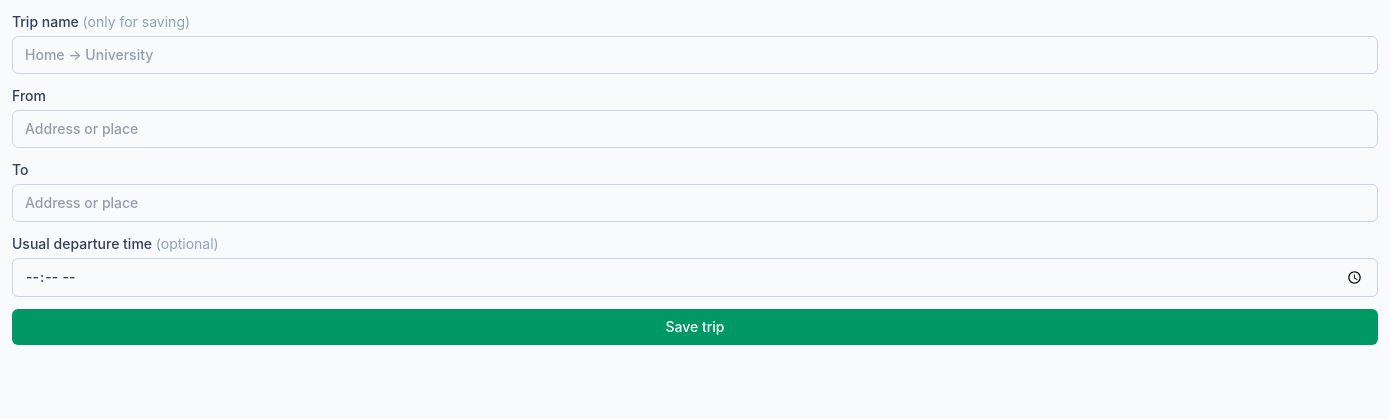
Scenario: AddTripForm › says lookup is temporarily unavailable on 503, not 'not found'
Type "Home -> Uni" into the field labelled "Trip name (only for saving)" at (695, 55), box [12,36,1378,74]
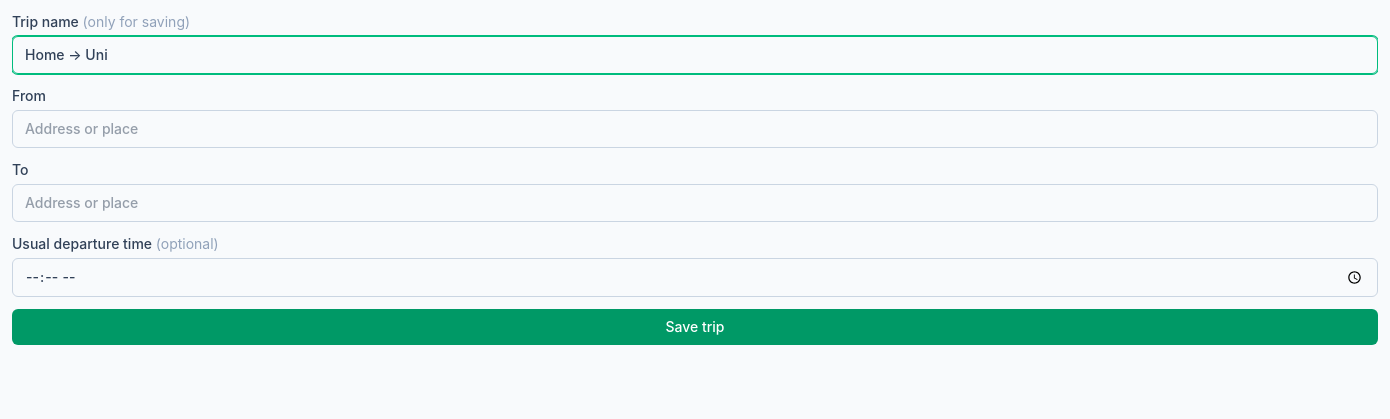
Type "Gdansk Glowny" into the field labelled "From" at (695, 129), box [12,110,1378,148]
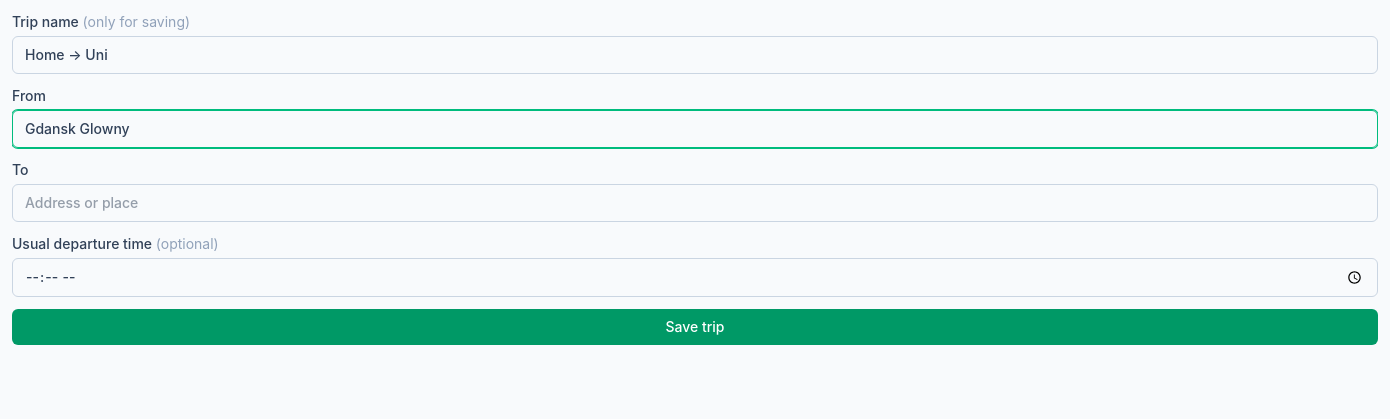
Type "Politechnika" into the field labelled "To" at (695, 203), box [12,184,1378,222]
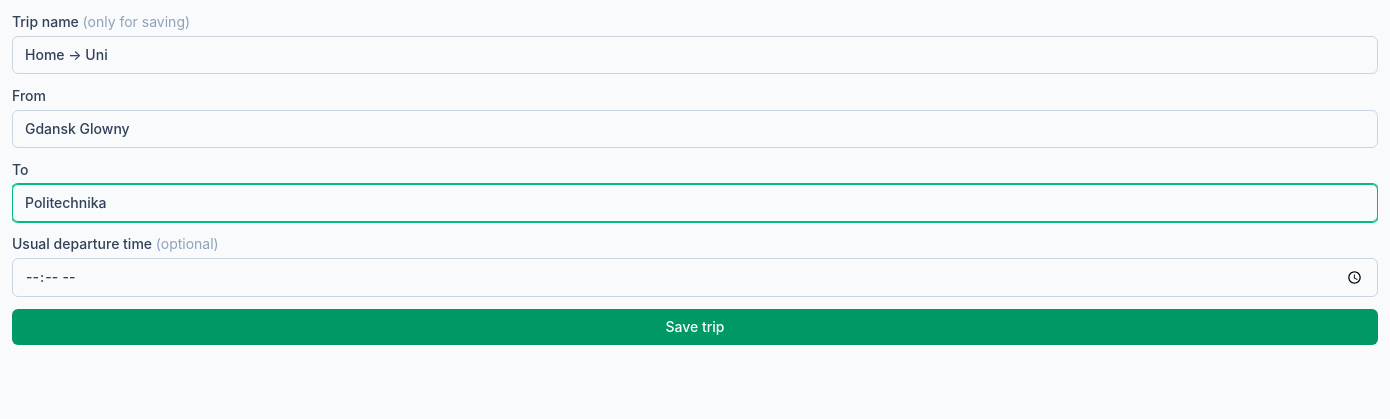
Click the button "Save trip" at (695, 327), box [12,309,1378,345]
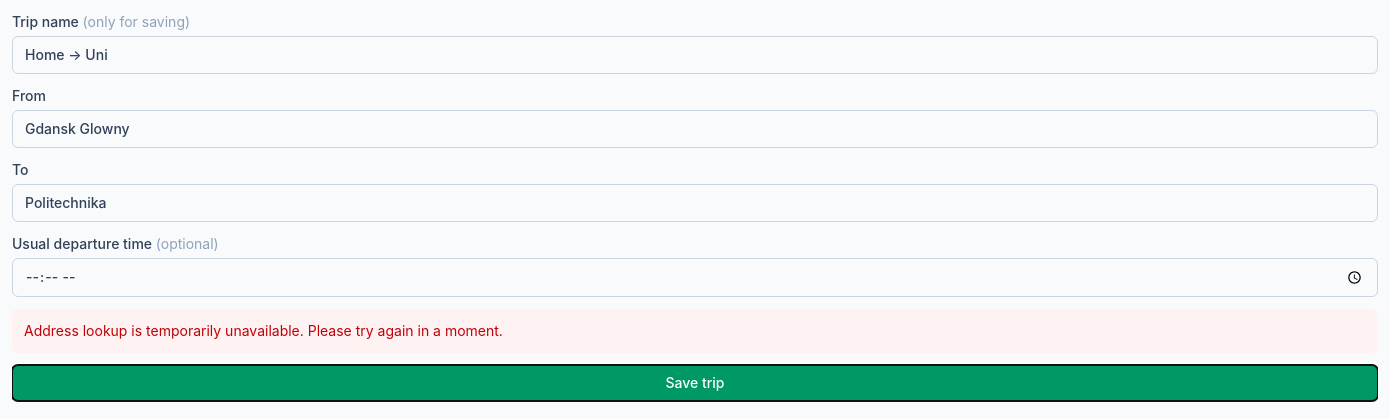
Check: the message shows "temporarily unavailable", box [24,322,503,339]
